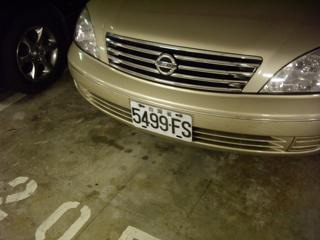plate: (127, 98, 194, 143)
